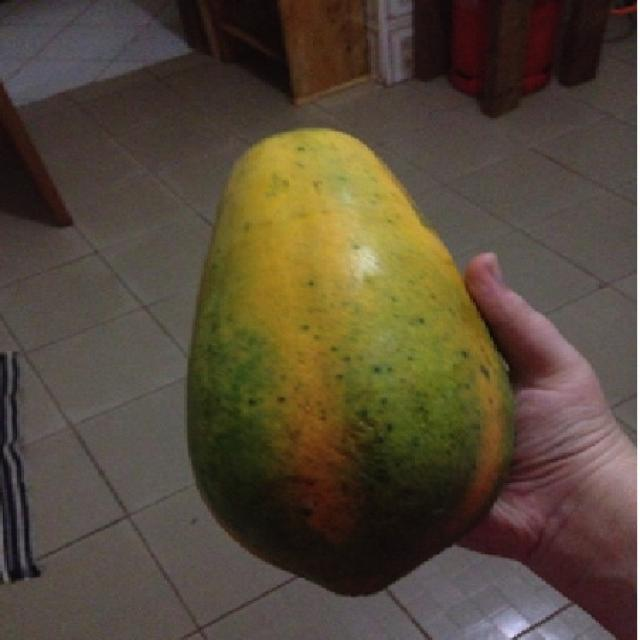Pepaya rippen: (184, 120, 520, 620)
